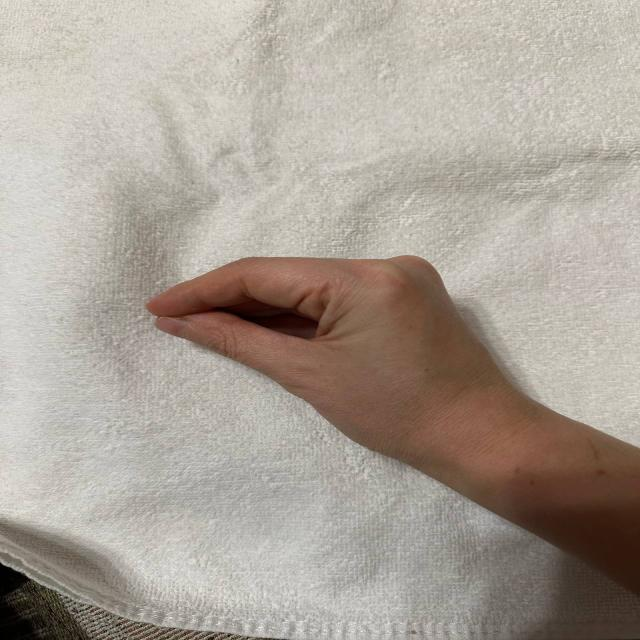zh: (131, 242, 460, 452)
